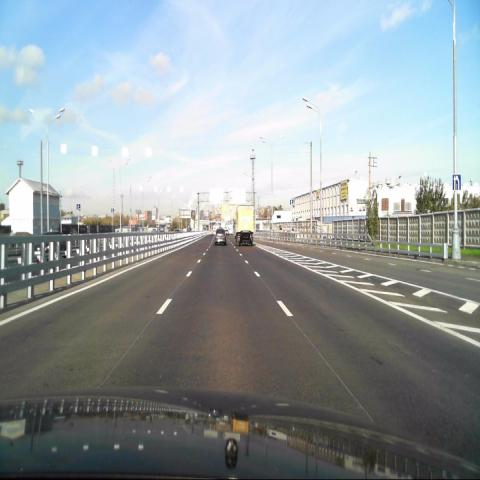5_15_5: (451, 171, 462, 193)
